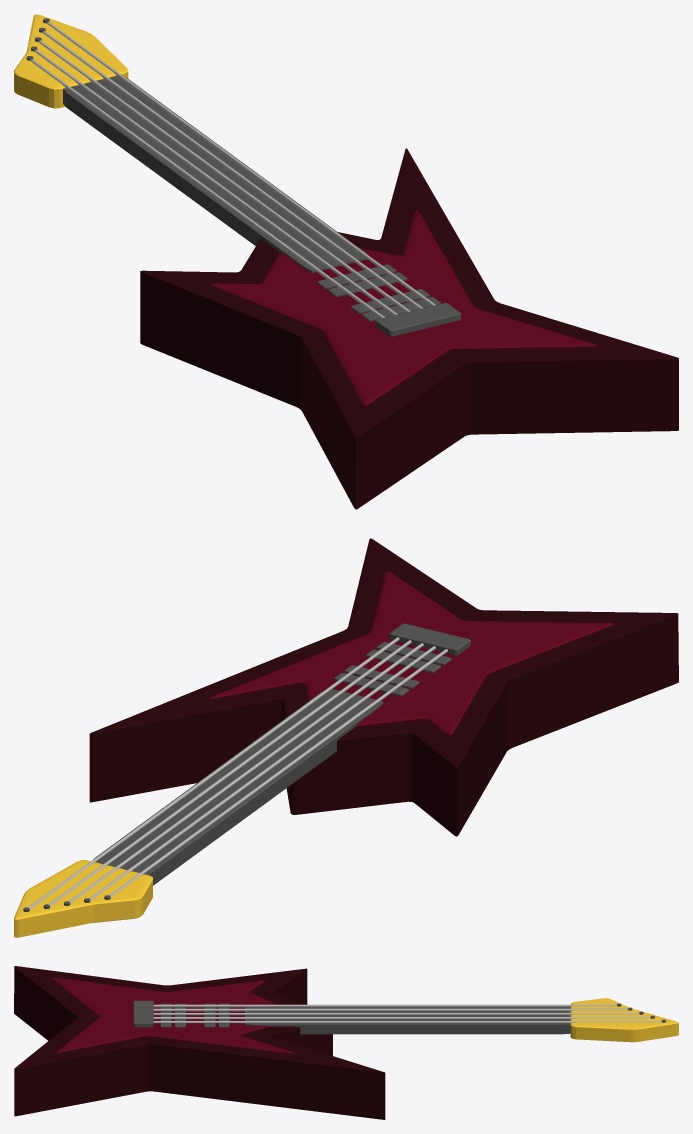
Rendered from Metal Guitar.fbx.
3 renders of one model, top to bottom at view 1: azimuth 30°, elevation 25°; view 2: azimuth 150°, elevation 25°; view 3: azimuth 270°, elevation 25°, orthographic. The views are drawn at different scales.
Visible parts, largest first — view 1: Guitar; view 2: Guitar; view 3: Guitar.
Part boxes in pixels (x1=…): Guitar: x1=14, y1=14, x2=678, y2=509; Guitar: x1=14, y1=538, x2=678, y2=937; Guitar: x1=14, y1=966, x2=678, y2=1119.
Bounding box in the file's own units: 473 × 111 × 1245.
